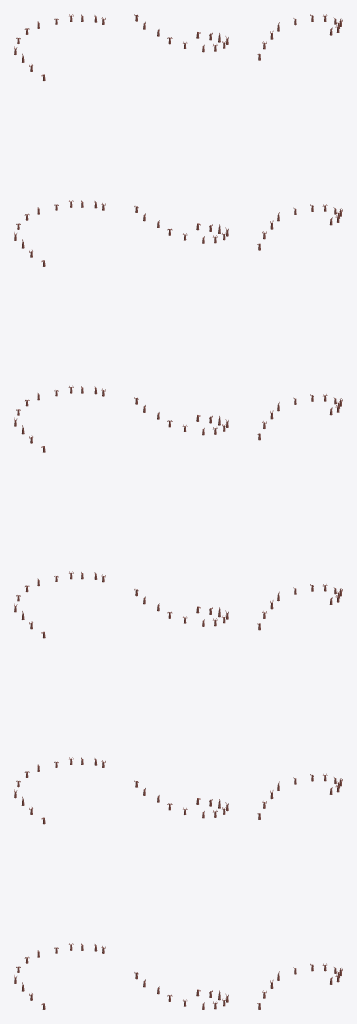
File: Circle5Crowd0.obj
3 renders of one model, left to right at view 1: azimuth 30°, elevation 25°; view 2: azimuth 210°, elevation 25°; view 3: azimuth 330°, elevation 25°, orthographic. The views are drawn at different scales.
Parts seen in each view (by area): view 1: Circle5Crowd0; view 2: Circle5Crowd0; view 3: Circle5Crowd0.
Boxes of the visible parts, x1,y1,x2,y2 form: Circle5Crowd0: [14, 14, 105, 1009]; Circle5Crowd0: [134, 14, 228, 1009]; Circle5Crowd0: [257, 14, 342, 1009].
Size of the model in its own units: 26.57 by 340 by 23.24.
1 material, 1 textured.
